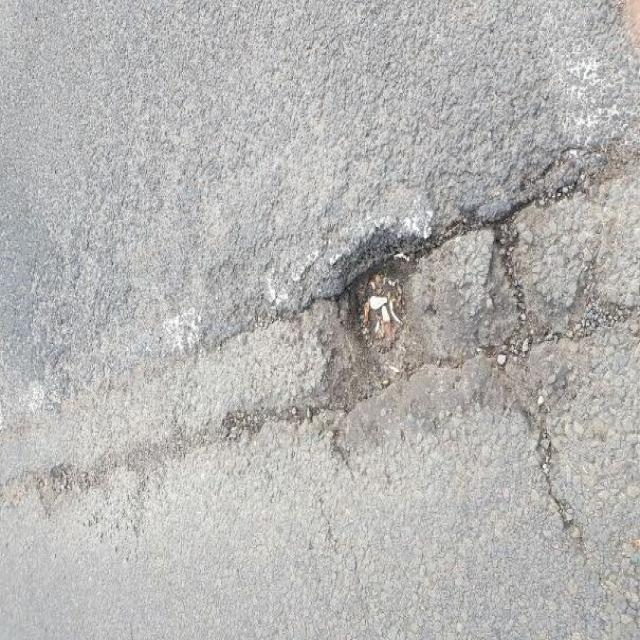Pothole: (287, 140, 640, 416)
